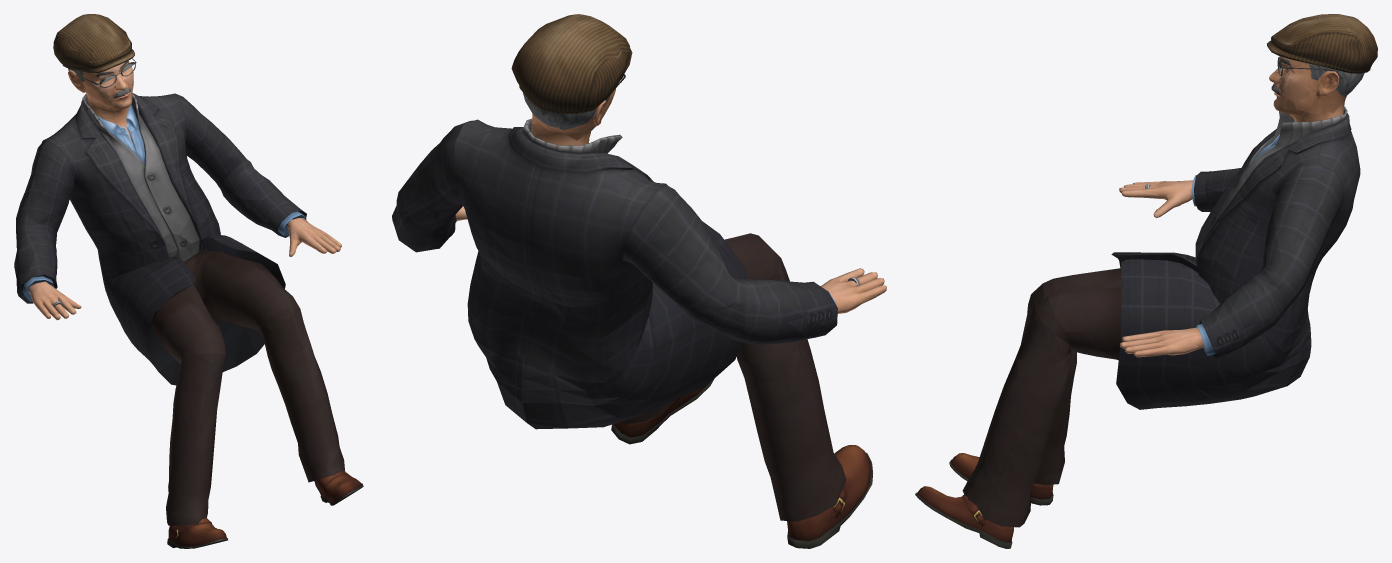
Rendered from Carlos.fbx.
3 renders of one model, left to right at view 1: azimuth 30°, elevation 25°; view 2: azimuth 150°, elevation 25°; view 3: azimuth 270°, elevation 25°, orthographic. The views are drawn at different scales.
Parts seen in each view (by area): view 1: GAFAS; view 2: GAFAS; view 3: GAFAS.
Part boxes in pixels (x1,y1,x2,y2): GAFAS: (14, 14, 363, 548); GAFAS: (392, 14, 886, 548); GAFAS: (915, 14, 1377, 548).
Bounding box in the file's own units: 98.8 × 137 × 113.
2 materials, 2 textured.
